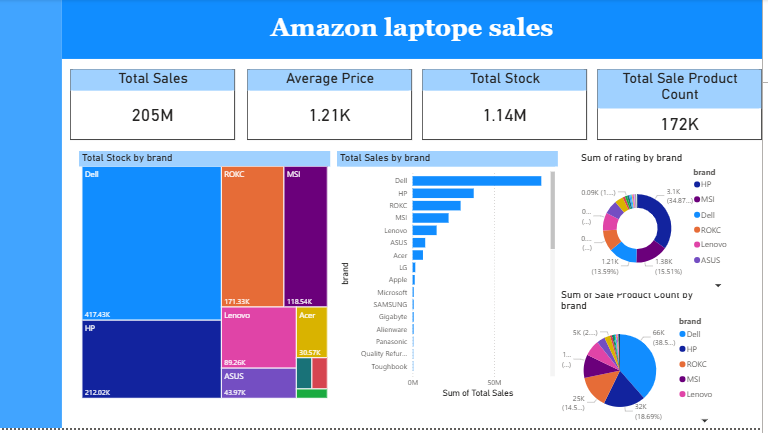

The dashboard page shown, as its layout file describes it:
{"tool":"powerbi","page":{"name":"Dashboard1","canvas":[1280,720],"ordinal":0},"visuals":[{"type":"textbox","box":[0,1.7,104.1,719],"z":0},{"type":"textbox","box":[104.1,1.7,1175.9,99.1],"z":1000},{"type":"card","title":"Total Sales","fields":{"Values":["Sum(amazon_laptop_prices_v01 (1).Total Sales)"]},"box":[117.6,117.6,277.2,119.3],"z":1001},{"type":"card","title":"Average Price","fields":{"Values":["amazon_laptop_prices_v01 (1).Average Price"]},"box":[414.9,117.6,277.2,119.3],"z":1002},{"type":"card","title":"Total Stock","fields":{"Values":["Sum(amazon_laptop_prices_v01 (1).Available Stock)"]},"box":[708.9,117.6,277.2,119.3],"z":1003},{"type":"card","title":"Total Sale Product Count","fields":{"Values":["Sum(amazon_laptop_prices_v01 (1).Sale Product Count)"]},"box":[1002.8,117.6,277.2,119.3],"z":1004},{"type":"barChart","title":"Total Sales by brand","fields":{"Category":["amazon_laptop_prices_v01 (1).brand"],"Y":["Sum(amazon_laptop_prices_v01 (1).Total Sales)"]},"box":[566.1,255.9,371.2,420.3],"z":1006},{"type":"pieChart","fields":{"Category":["amazon_laptop_prices_v01 (1).brand","amazon_laptop_prices_v01 (1).Price Classes"],"Y":["Sum(amazon_laptop_prices_v01 (1).Sale Product Count)"]},"box":[937.3,484.7,293.2,235.6],"z":1008},{"type":"donutChart","fields":{"Category":["amazon_laptop_prices_v01 (1).brand"],"Y":["Sum(amazon_laptop_prices_v01 (1).rating)"]},"box":[971.2,255.9,279.7,239],"z":1009},{"type":"treemap","title":"Total  Stock by brand","fields":{"Group":["amazon_laptop_prices_v01 (1).brand"],"Values":["Sum(amazon_laptop_prices_v01 (1).Available Stock)"]},"box":[132.2,255.9,422,420.3],"z":1010}]}

Visuals, with their boxes in screenshot pixels (x1, y1, x2, y2), scaled from the page's 1280x720 canvas onto the 768x433 screenshot:
textbox: box=[0, 1, 62, 432]
textbox: box=[62, 1, 767, 61]
"Total Sales" card: box=[71, 71, 237, 142]
"Average Price" card: box=[249, 71, 415, 142]
"Total Stock" card: box=[425, 71, 592, 142]
"Total Sale Product Count" card: box=[602, 71, 767, 142]
"Total Sales by brand" barChart: box=[340, 154, 562, 407]
pieChart - amazon_laptop_prices_v01 (1).brand x amazon_laptop_prices_v01 (1).Price Classes: box=[562, 291, 738, 432]
donutChart - amazon_laptop_prices_v01 (1).brand x Sum(amazon_laptop_prices_v01 (1).rating): box=[583, 154, 751, 298]
"Total  Stock by brand" treemap: box=[79, 154, 333, 407]
